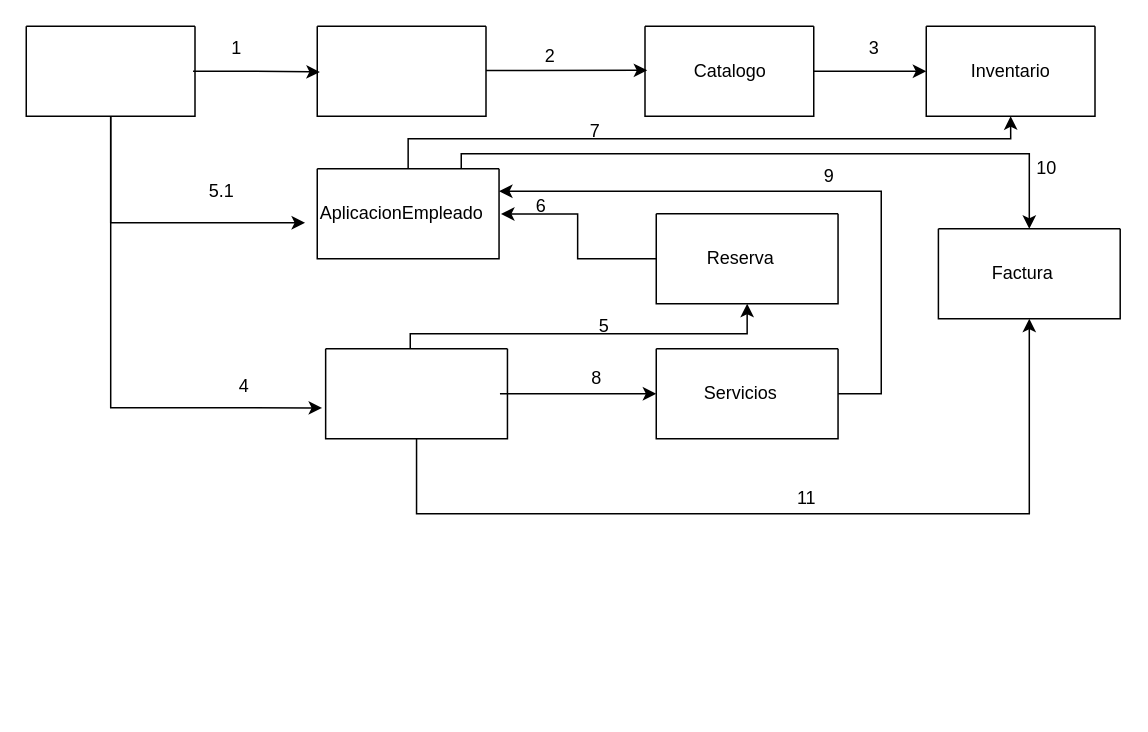
The diagram is 1148 pixels wide and 732 high, and some of its shapes have lost their labels. Each missing label, with the centre of its shape:
AplicacionAdmin: point 401,70
AplicacionCliente: point 415,393
Página principal: point 110,70
